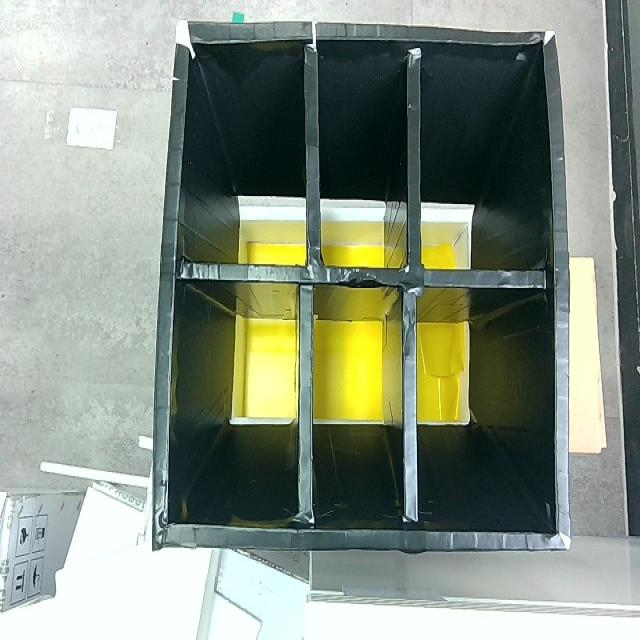box: (146, 11, 577, 562)
